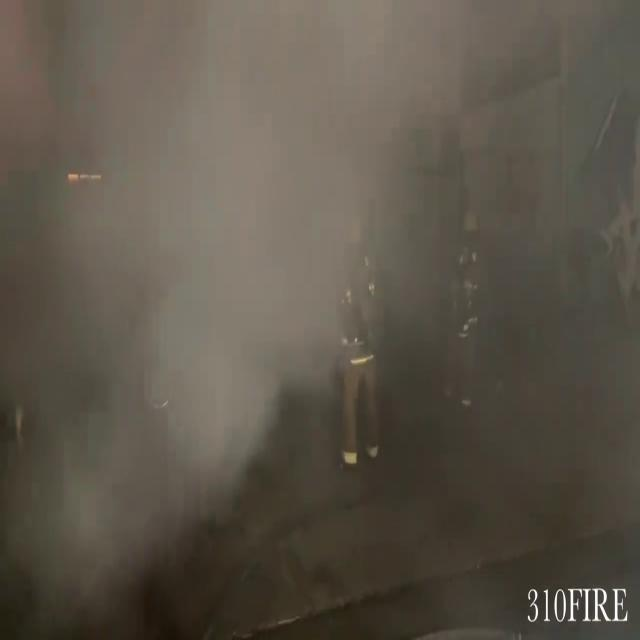Smoke: (0, 2, 637, 570)
